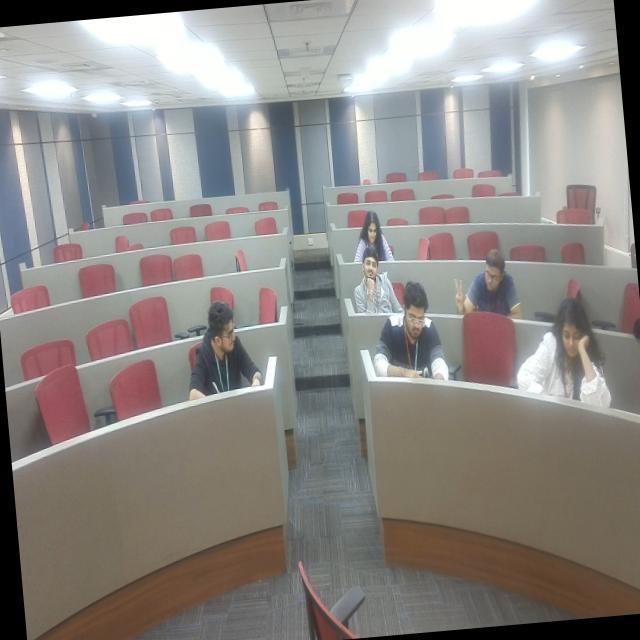cheating: (185, 274, 272, 426), (448, 244, 524, 340)
non-cheating: (516, 288, 614, 425), (376, 281, 448, 394), (354, 202, 390, 266)
